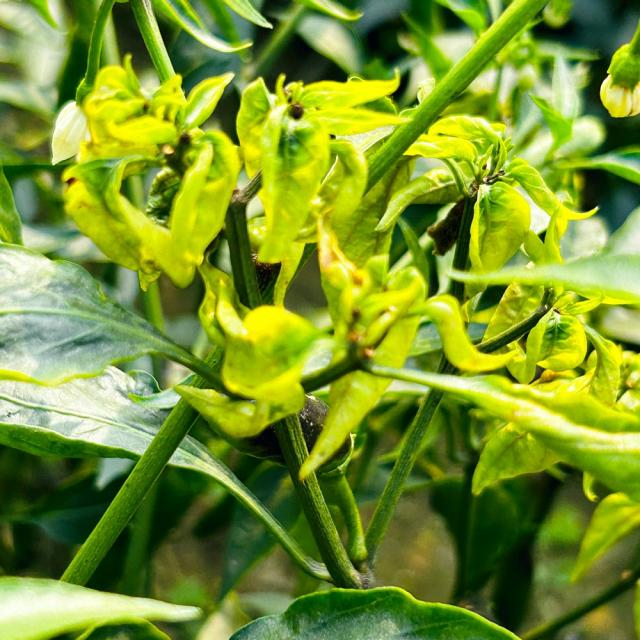Chilli_Leaf_Curl: (2, 1, 637, 636), (50, 53, 241, 291), (375, 113, 597, 296), (234, 69, 406, 264), (227, 584, 522, 639), (0, 574, 203, 638), (598, 18, 638, 118)
